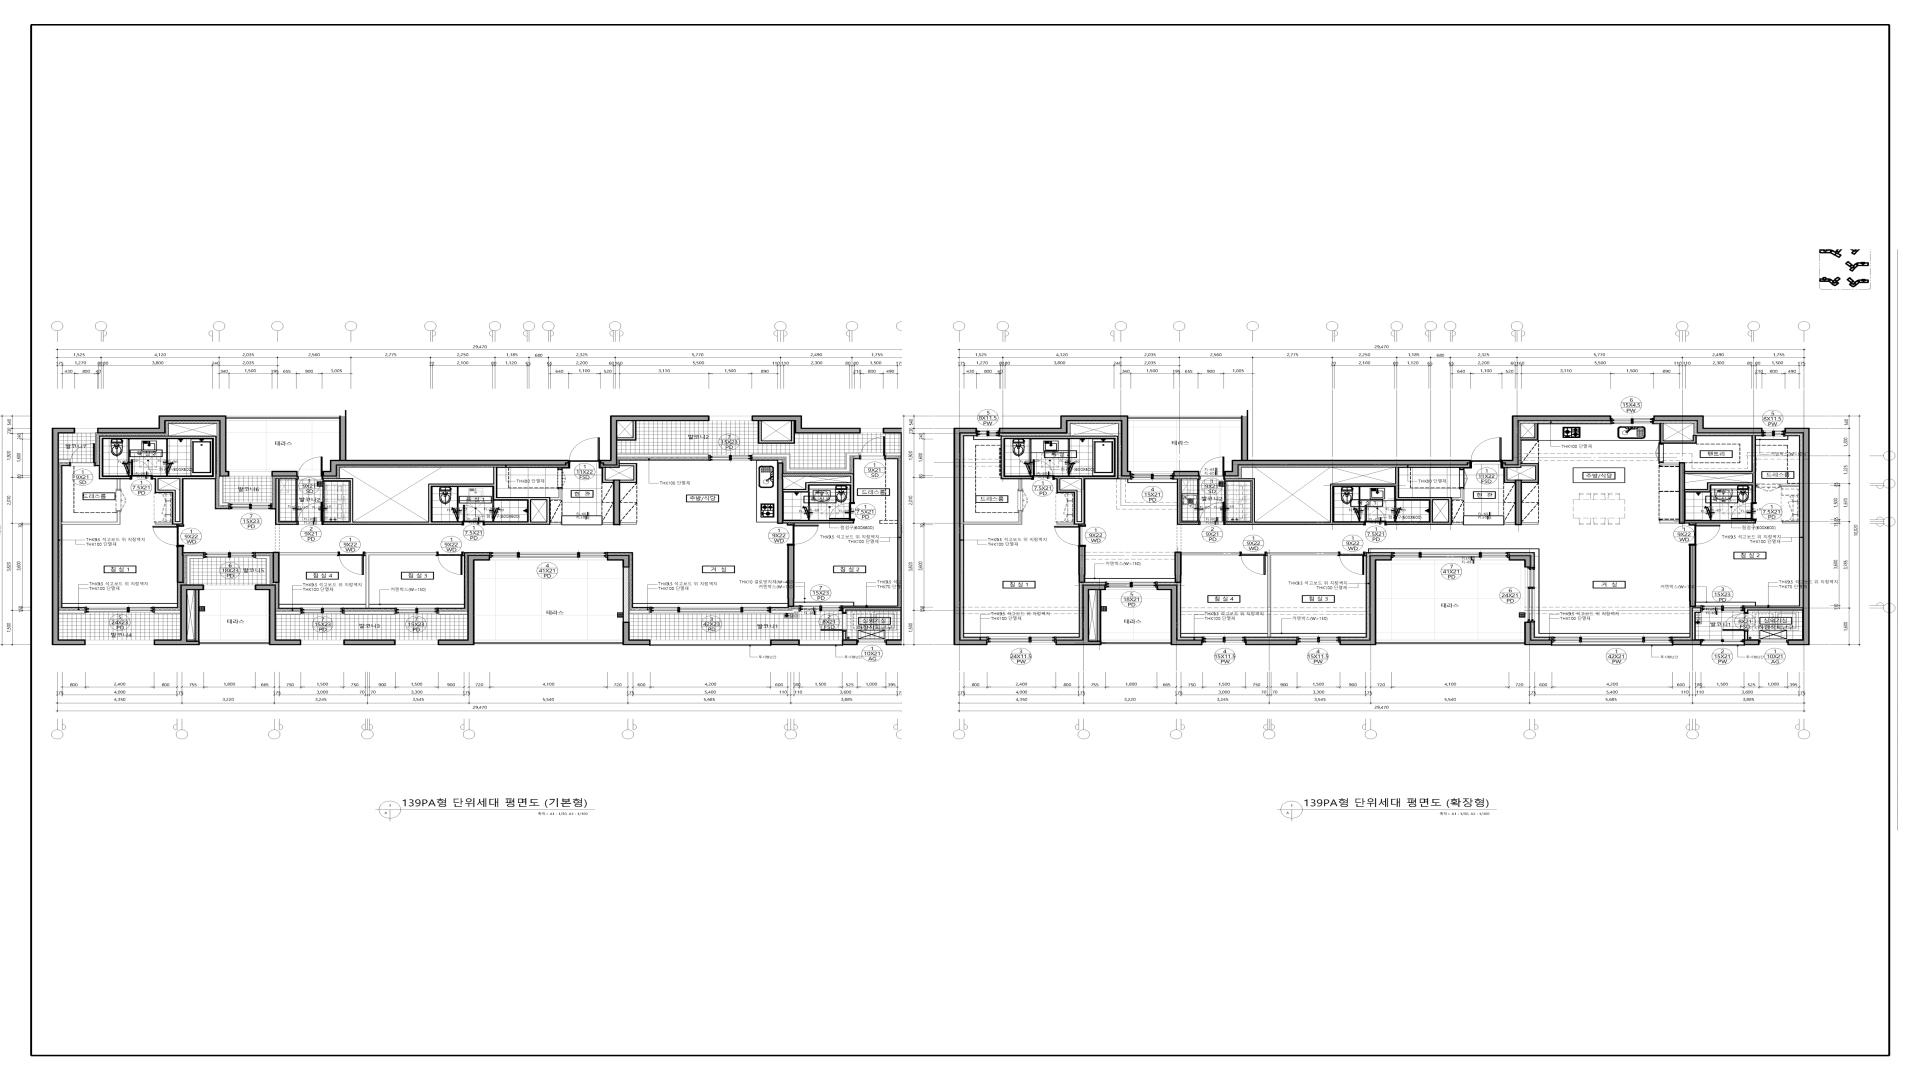door: (1470, 438, 1502, 468), (568, 438, 600, 468), (1054, 525, 1087, 547), (1689, 524, 1721, 546), (153, 525, 185, 547), (787, 524, 819, 546), (1240, 551, 1267, 575), (1338, 551, 1366, 575), (338, 551, 365, 575), (436, 551, 464, 575), (1199, 501, 1225, 525), (297, 501, 323, 525), (860, 436, 886, 460), (1200, 456, 1225, 480), (70, 443, 95, 467), (298, 456, 323, 480), (1722, 612, 1749, 632), (820, 612, 847, 632), (1031, 459, 1055, 480), (1364, 505, 1386, 526), (131, 459, 153, 480), (462, 505, 484, 526), (1731, 502, 1756, 520), (829, 502, 855, 520), (1018, 492, 1029, 510), (116, 492, 127, 510), (1756, 484, 1780, 492), (1655, 444, 1664, 463)
wall: (323, 415, 568, 476), (1225, 415, 1470, 476), (323, 467, 562, 525), (1225, 467, 1464, 525), (99, 435, 216, 525), (1001, 435, 1118, 525), (98, 415, 229, 476), (1000, 415, 1131, 476), (51, 427, 86, 645), (953, 427, 988, 645), (1267, 553, 1338, 637), (882, 427, 909, 645), (600, 415, 709, 465), (1502, 415, 1611, 465), (1784, 427, 1809, 645), (1685, 435, 1756, 502), (438, 555, 491, 645), (1340, 555, 1393, 645), (365, 553, 436, 608), (1055, 584, 1106, 645), (154, 584, 204, 645), (255, 584, 301, 645), (1156, 584, 1203, 645), (753, 452, 860, 472), (783, 473, 855, 502), (752, 415, 861, 434), (1654, 415, 1763, 434), (622, 567, 650, 621), (276, 479, 297, 525), (1178, 479, 1199, 525), (758, 421, 795, 444), (963, 510, 1022, 525), (62, 510, 120, 525), (1377, 640, 1524, 645), (1660, 423, 1697, 444), (475, 640, 622, 645), (622, 621, 650, 645), (1524, 621, 1552, 645), (227, 415, 339, 421), (1129, 415, 1241, 421), (186, 555, 203, 584), (787, 546, 795, 607), (256, 555, 270, 584), (1679, 462, 1685, 524), (777, 463, 783, 524), (1689, 546, 1696, 607), (617, 421, 637, 440), (1101, 640, 1171, 645), (617, 454, 709, 458), (1520, 463, 1539, 483), (200, 640, 269, 645), (620, 463, 637, 483), (1520, 423, 1539, 440), (613, 480, 620, 525), (1515, 480, 1522, 525), (1692, 608, 1701, 640), (1685, 520, 1756, 524), (783, 520, 855, 524), (607, 555, 630, 567), (1245, 640, 1298, 645), (344, 640, 396, 645), (219, 477, 228, 506), (1509, 555, 1531, 567), (177, 547, 183, 583), (1079, 547, 1085, 583), (1745, 608, 1803, 612), (843, 608, 901, 612), (273, 551, 280, 583), (1175, 551, 1182, 583), (195, 591, 199, 641), (344, 611, 394, 615), (1097, 591, 1101, 641), (601, 468, 613, 483), (1503, 468, 1515, 483), (770, 640, 800, 645), (1182, 553, 1240, 555), (280, 553, 338, 555), (1672, 640, 1701, 645), (272, 471, 298, 476), (1174, 471, 1199, 476), (439, 611, 467, 615), (771, 609, 799, 613), (276, 611, 301, 615), (843, 640, 858, 645), (1745, 640, 1759, 645), (154, 611, 181, 613), (59, 611, 86, 613), (886, 452, 901, 456), (1659, 521, 1679, 524), (1659, 463, 1679, 465), (758, 521, 777, 524), (1522, 522, 1539, 525), (620, 522, 637, 525), (59, 459, 70, 463), (843, 632, 847, 640), (1745, 632, 1749, 640), (603, 522, 613, 525), (1505, 522, 1515, 525), (1780, 485, 1799, 487), (1783, 522, 1799, 524), (778, 460, 783, 463)
window: (1552, 637, 1672, 646), (1393, 553, 1509, 560), (491, 553, 607, 560), (650, 607, 771, 613), (650, 640, 770, 646), (988, 637, 1055, 645), (1526, 567, 1535, 621), (86, 607, 154, 613), (1106, 582, 1156, 589), (1611, 415, 1654, 425), (86, 640, 154, 645), (1131, 472, 1174, 480), (1203, 637, 1245, 645), (1298, 637, 1340, 645), (799, 605, 843, 612), (1701, 605, 1745, 612), (709, 455, 752, 462), (800, 640, 843, 646), (203, 553, 256, 558), (1702, 640, 1743, 646), (228, 504, 273, 509), (394, 608, 439, 613), (301, 608, 344, 613), (709, 415, 752, 421), (301, 640, 343, 645), (396, 640, 438, 645), (204, 585, 255, 589), (977, 429, 1000, 436), (229, 472, 272, 476), (1763, 429, 1784, 436), (1759, 640, 1788, 645), (858, 640, 886, 645), (75, 429, 98, 433), (861, 429, 882, 433)
